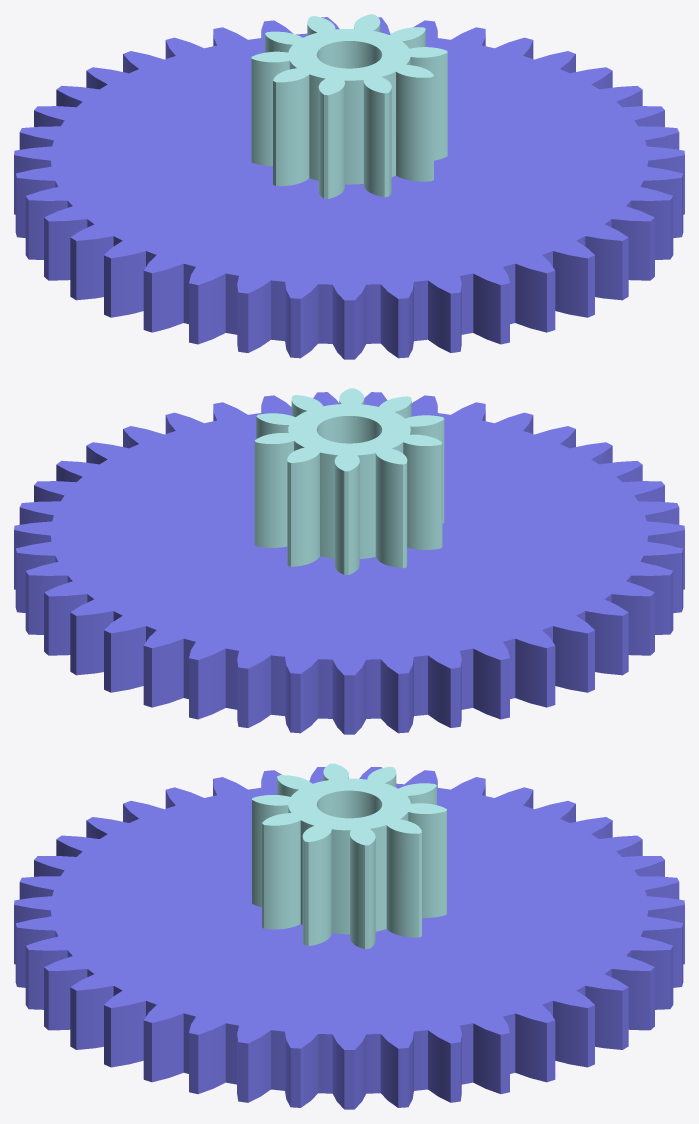
Rendered from gear-sub2.fbx.
The picture shows the model from 3 angles, top to bottom: view 1: azimuth 30°, elevation 25°; view 2: azimuth 150°, elevation 25°; view 3: azimuth 270°, elevation 25°; orthographic projection.
Parts seen in each view (by area): view 1: spur gear_iso-2, spur gear_iso-4; view 2: spur gear_iso-2, spur gear_iso-4; view 3: spur gear_iso-2, spur gear_iso-4.
Part boxes in pixels (x1,y1,x2,y2): spur gear_iso-2: (14, 17, 684, 359); spur gear_iso-4: (251, 14, 447, 198); spur gear_iso-2: (14, 392, 684, 734); spur gear_iso-4: (254, 388, 444, 574); spur gear_iso-2: (14, 767, 684, 1109); spur gear_iso-4: (252, 763, 446, 949).
Size of the model in its own units: 10.24 by 2.75 by 10.25.
